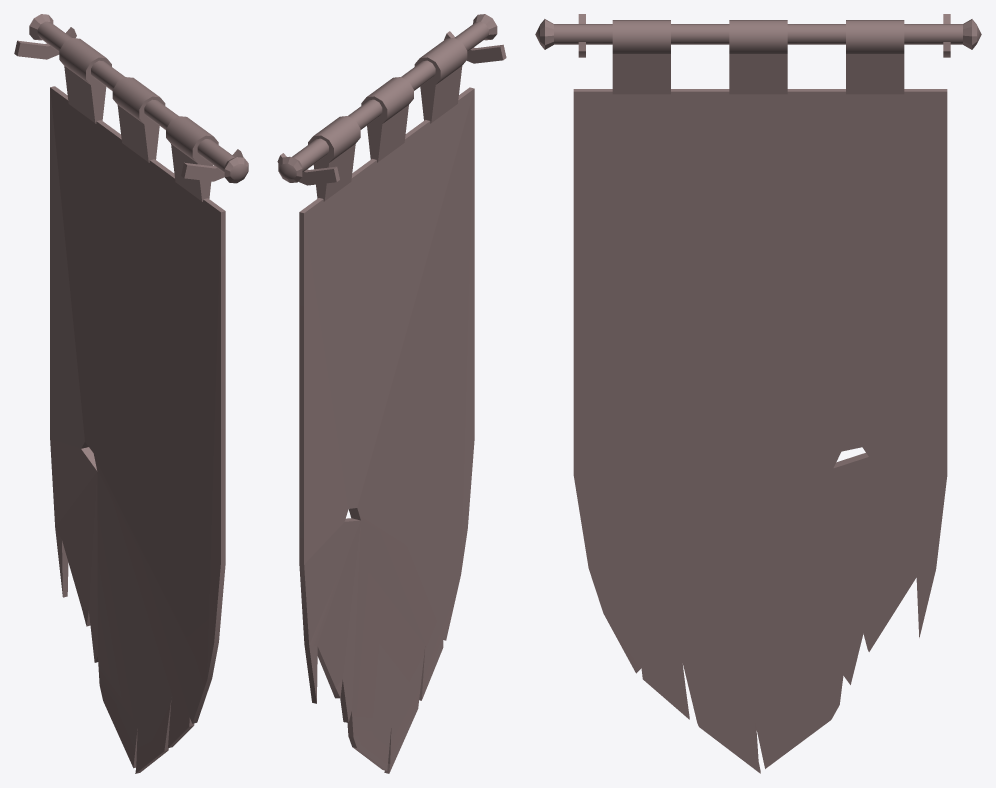
The model's file is EstandarteDECO1LOW.fbx.
3 views of the same model, side by side, from view 1: azimuth 30°, elevation 25°; view 2: azimuth 150°, elevation 25°; view 3: azimuth 270°, elevation 25° (orthographic). The views are drawn at different scales.
Parts seen in each view (by area): view 1: EstandarteDECOLOW1; view 2: EstandarteDECOLOW1; view 3: EstandarteDECOLOW1.
Boxes of the visible parts, box(x1,y1,x2,y2) form: EstandarteDECOLOW1: box(14, 14, 248, 773); EstandarteDECOLOW1: box(277, 14, 506, 773); EstandarteDECOLOW1: box(535, 14, 981, 773).
Bounding box in the file's own units: 0.7393 × 8.18 × 4.4.
